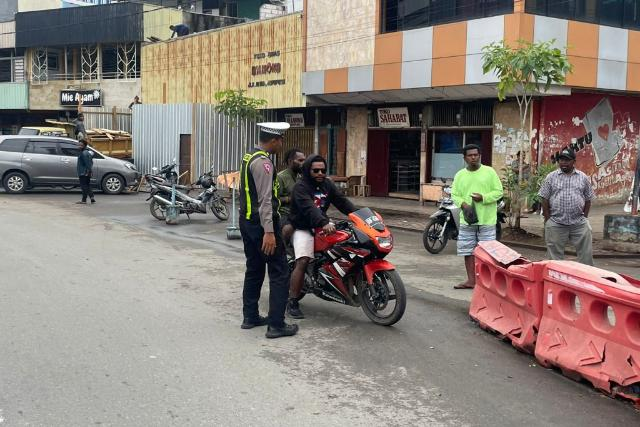motor: (288, 206, 407, 328), (151, 166, 231, 222)
non-helm: (307, 155, 328, 183), (286, 150, 307, 175), (464, 146, 481, 168), (560, 150, 577, 172)
